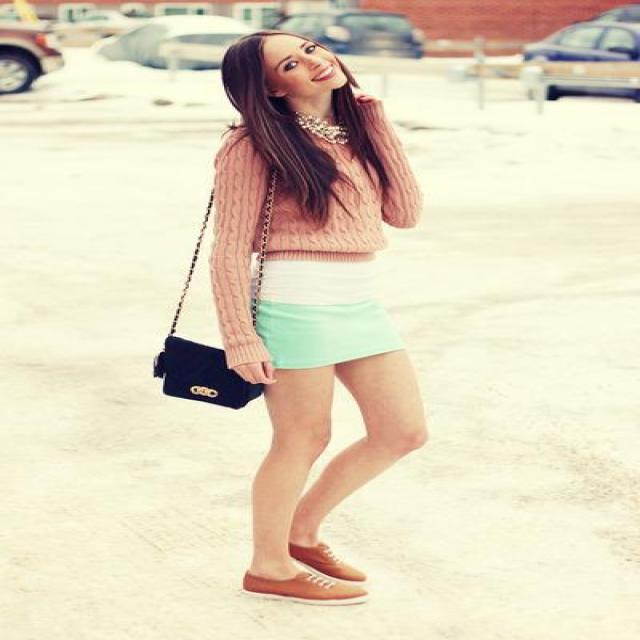bag: (154, 335, 264, 408)
jacket: (211, 98, 418, 352)
shoe: (243, 543, 363, 599)
skirt: (250, 253, 411, 368)
